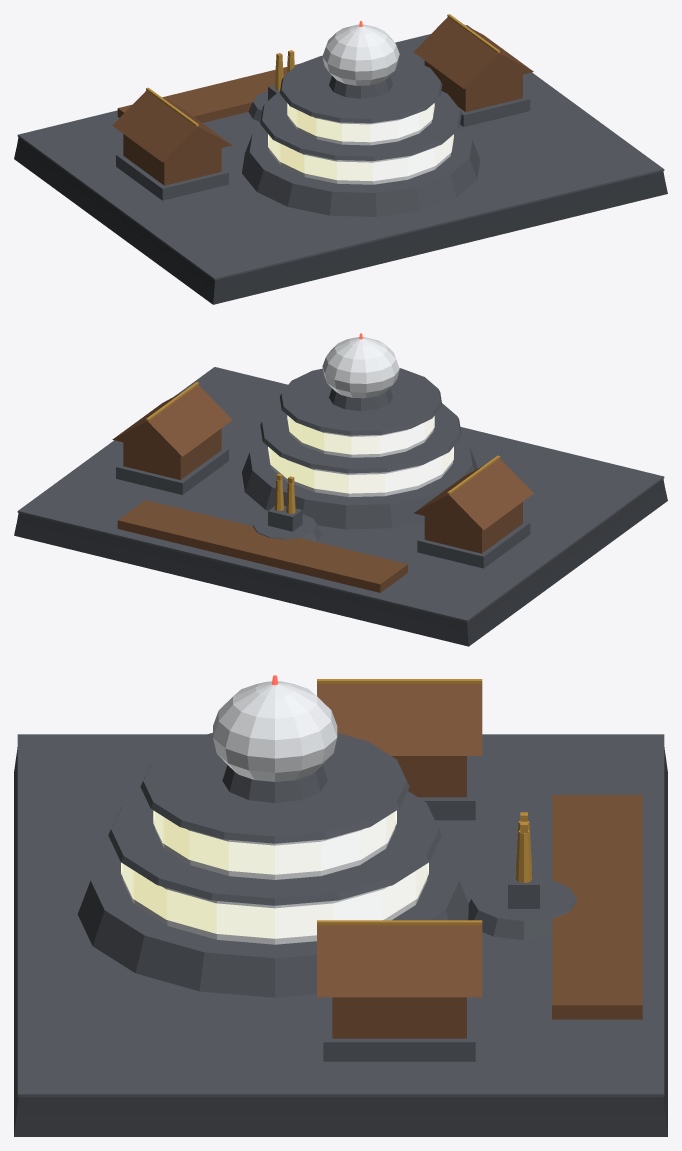
Rendered from lm_20_dinh_langbiang.glb.
The picture shows the model from 3 angles, top to bottom: view 1: azimuth 30°, elevation 25°; view 2: azimuth 150°, elevation 25°; view 3: azimuth 270°, elevation 25°; orthographic projection. The views are drawn at different scales.
Visible parts, largest first — view 1: Foundation_Plinth_Trim, Langbiang_Basalt_Fortress_Base, Foundation_Skirt, Langbiang_Geodesic_Radome_And_Tower, Langbiang_Cloud_Hunting_Timber_Deck, Langbiang_Panorama_Glass_Glow, Langbiang_KHo_Pavilion_Roof_E, Langbiang_KHo_Pavilion_Roof_W; view 2: Foundation_Plinth_Trim, Langbiang_Basalt_Fortress_Base, Foundation_Skirt, Langbiang_Cloud_Hunting_Timber_Deck, Langbiang_Geodesic_Radome_And_Tower, Langbiang_Panorama_Glass_Glow, Langbiang_KHo_Pavilion_Roof_W, Langbiang_KHo_Pavilion_Roof_E, Langbiang_KLang_HBiang_Monument; view 3: Foundation_Plinth_Trim, Langbiang_Basalt_Fortress_Base, Foundation_Skirt, Langbiang_Geodesic_Radome_And_Tower, Langbiang_Cloud_Hunting_Timber_Deck, Langbiang_Panorama_Glass_Glow, Langbiang_KHo_Pavilion_Roof_E, Langbiang_KHo_Pavilion_Roof_W, Langbiang_KHo_Pavilion_Roof_E_Trim, Langbiang_KLang_HBiang_Monument, Langbiang_KHo_Pavilion_Roof_W_Trim.
Boxes of the visible parts, <box> form: Foundation_Plinth_Trim: <box>17,25,664,280</box>; Langbiang_Basalt_Fortress_Base: <box>116,55,530,216</box>; Foundation_Skirt: <box>14,137,667,304</box>; Langbiang_Geodesic_Radome_And_Tower: <box>269,24,452,184</box>; Langbiang_Cloud_Hunting_Timber_Deck: <box>117,60,522,185</box>; Langbiang_Panorama_Glass_Glow: <box>268,103,453,181</box>; Langbiang_KHo_Pavilion_Roof_E: <box>413,17,533,88</box>; Langbiang_KHo_Pavilion_Roof_W: <box>112,90,232,162</box>; Foundation_Plinth_Trim: <box>17,367,664,622</box>; Langbiang_Basalt_Fortress_Base: <box>116,368,530,568</box>; Foundation_Skirt: <box>14,479,667,646</box>; Langbiang_Cloud_Hunting_Timber_Deck: <box>117,428,522,592</box>; Langbiang_Geodesic_Radome_And_Tower: <box>269,337,452,497</box>; Langbiang_Panorama_Glass_Glow: <box>268,415,453,493</box>; Langbiang_KHo_Pavilion_Roof_W: <box>414,458,533,530</box>; Langbiang_KHo_Pavilion_Roof_E: <box>112,385,232,456</box>; Langbiang_KLang_HBiang_Monument: <box>274,473,295,513</box>; Foundation_Plinth_Trim: <box>17,734,664,1097</box>; Langbiang_Basalt_Fortress_Base: <box>77,732,577,1061</box>; Foundation_Skirt: <box>14,747,667,1136</box>; Langbiang_Geodesic_Radome_And_Tower: <box>122,681,427,944</box>; Langbiang_Cloud_Hunting_Timber_Deck: <box>332,756,642,1038</box>; Langbiang_Panorama_Glass_Glow: <box>121,810,428,938</box>; Langbiang_KHo_Pavilion_Roof_E: <box>317,925,482,997</box>; Langbiang_KHo_Pavilion_Roof_W: <box>317,684,482,755</box>; Langbiang_KHo_Pavilion_Roof_E_Trim: <box>317,920,482,925</box>; Langbiang_KLang_HBiang_Monument: <box>516,812,531,882</box>; Langbiang_KHo_Pavilion_Roof_W_Trim: <box>317,679,482,683</box>.
Size of the model in its own units: 58.88 by 21 by 44.66.
